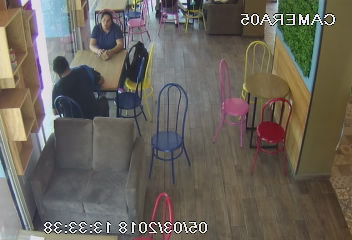libre: (200, 40, 305, 171)
ocupado: (45, 15, 158, 123)
